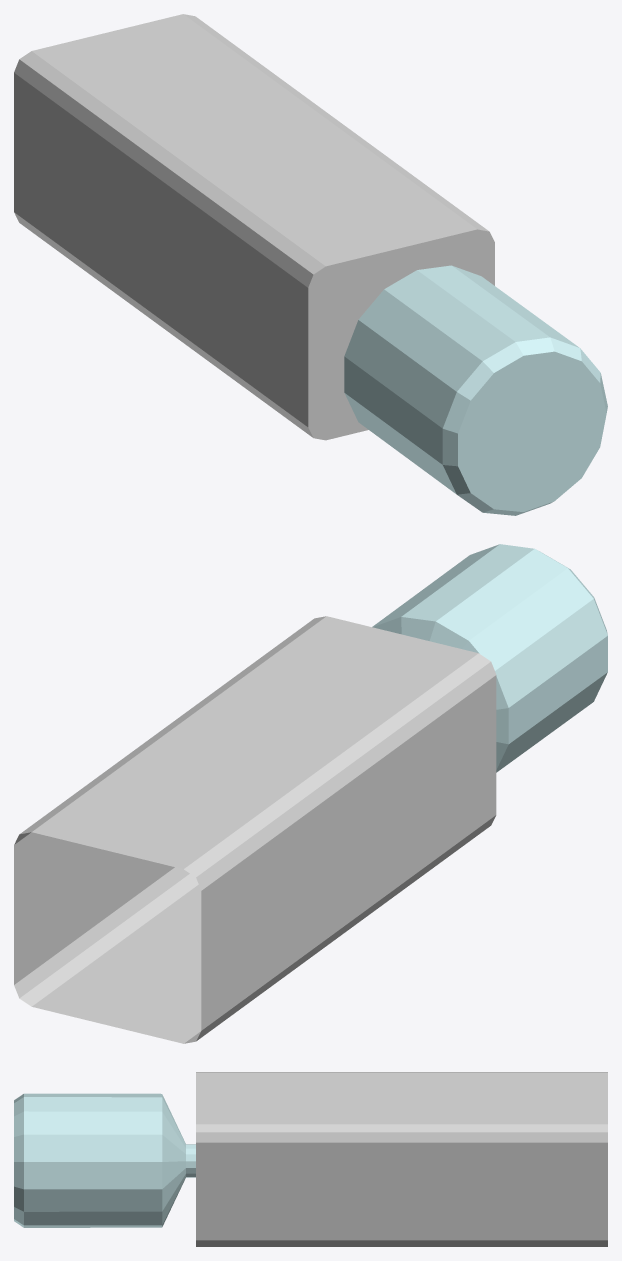
The picture shows the model from 3 angles, top to bottom: view 1: azimuth 30°, elevation 25°; view 2: azimuth 150°, elevation 25°; view 3: azimuth 270°, elevation 25°; orthographic projection. The views are drawn at different scales.
Parts seen in each view (by area): view 1: 立方体, 柱体; view 2: 立方体, 柱体; view 3: 立方体, 柱体.
Part boxes in pixels (<box>): 立方体: <box>14,14,494,440</box>; 柱体: <box>344,265,607,515</box>; 立方体: <box>14,616,496,1043</box>; 柱体: <box>372,544,607,772</box>; 立方体: <box>196,1072,607,1246</box>; 柱体: <box>14,1093,195,1227</box>.
Bounding box in the file's own units: 0.2591 × 0.2525 × 1.02.
